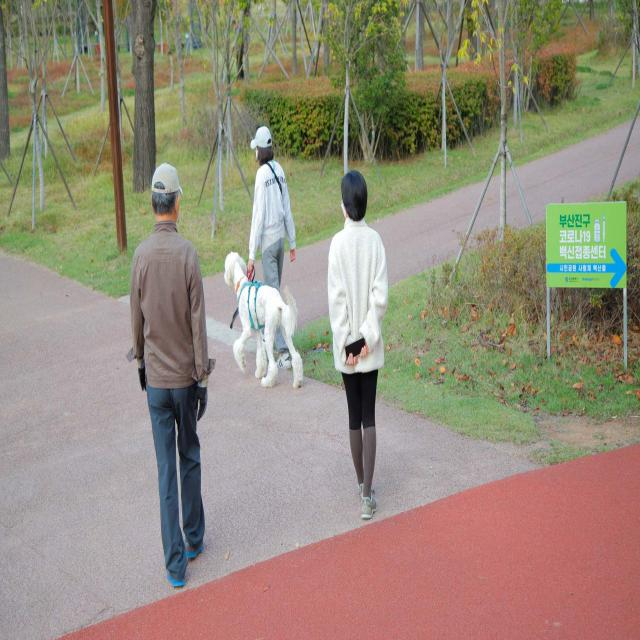Leashed_Dog: (224, 251, 304, 390)
